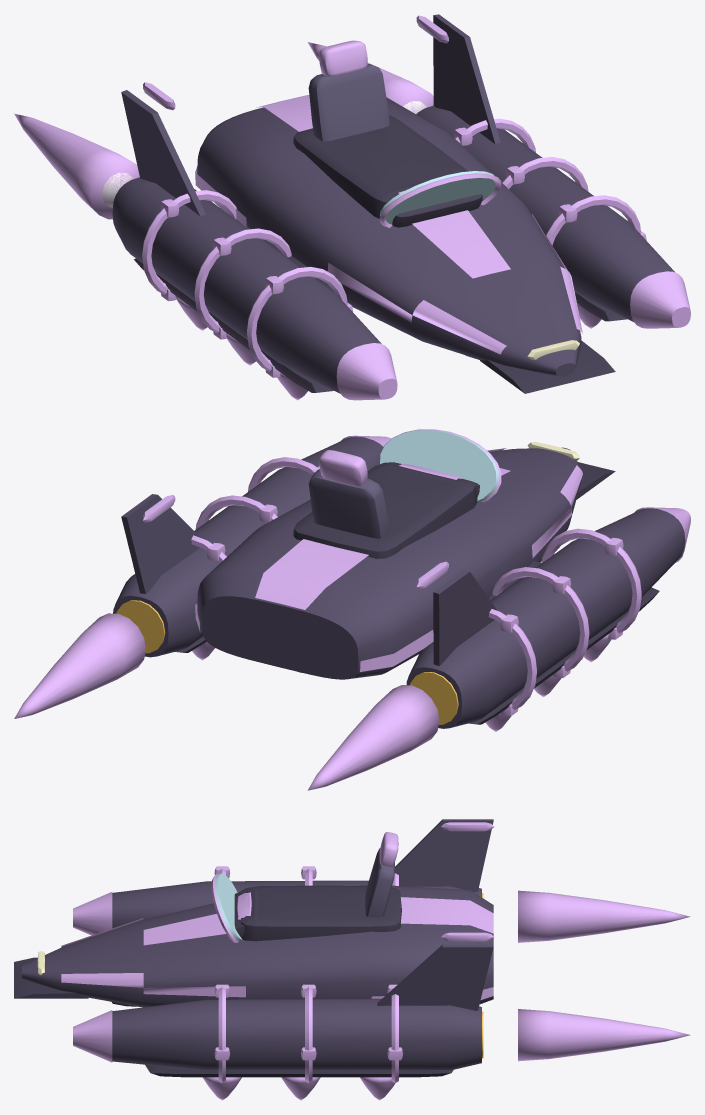
The model's file is skimmer.glb.
3 views of the same model, one above another, from view 1: azimuth 30°, elevation 25°; view 2: azimuth 150°, elevation 25°; view 3: azimuth 270°, elevation 25° (orthographic). The views are drawn at different scales.
Parts seen in each view (by area): view 1: hull, nacelleL, nacelleR, tub, plumeL_flame, seatBack, finR, spine, finL, chine, nacelleCapR, nacelleCapL (+13 smaller); view 2: hull, nacelleL, nacelleR, tub, plumeR_flame, plumeL_flame, spine, screen, finR, seatBack, finL, chine (+10 smaller); view 3: hull, nacelleR, tub, plumeL_flame, plumeR_flame, finR, finL, spine, nacelleL, emitterFrameR, chine, nacelleCapR (+13 smaller).
Part boxes in pixels (left/top/right/bottom): hull: left=197, top=97, right=581, bottom=376; nacelleL: left=112, top=177, right=381, bottom=393; nacelleR: left=416, top=105, right=675, bottom=321; tub: left=293, top=115, right=468, bottom=218; plumeL_flame: left=14, top=113, right=139, bottom=219; seatBack: left=308, top=64, right=389, bottom=141; finR: left=433, top=14, right=500, bottom=144; spine: left=256, top=95, right=510, bottom=278; finL: left=121, top=90, right=205, bottom=216; chine: left=195, top=167, right=582, bottom=354; nacelleCapR: left=630, top=271, right=690, bottom=328; nacelleCapL: left=336, top=343, right=397, bottom=400; hull: left=197, top=447, right=581, bottom=679; nacelleL: left=406, top=508, right=685, bottom=728; nacelleR: left=113, top=437, right=383, bottom=657; tub: left=293, top=462, right=477, bottom=558; plumeR_flame: left=14, top=613, right=145, bottom=718; plumeL_flame: left=307, top=685, right=439, bottom=790; spine: left=255, top=468, right=510, bottom=609; screen: left=380, top=430, right=498, bottom=501; finR: left=121, top=494, right=200, bottom=593; seatBack: left=308, top=469, right=389, bottom=538; finL: left=433, top=569, right=496, bottom=666; chine: left=195, top=448, right=582, bottom=671; hull: left=22, top=885, right=493, bottom=1007; nacelleR: left=112, top=998, right=481, bottom=1070; tub: left=241, top=885, right=401, bottom=941; plumeL_flame: left=518, top=890, right=690, bottom=942; plumeR_flame: left=518, top=1009, right=690, bottom=1061; finR: left=377, top=944, right=493, bottom=1010; finL: left=395, top=819, right=493, bottom=891; spine: left=143, top=897, right=493, bottom=945; nacelleL: left=112, top=880, right=481, bottom=928; emitterFrameR: left=145, top=1064, right=453, bottom=1077; chine: left=61, top=918, right=493, bottom=999; nacelleCapR: left=73, top=1010, right=112, bottom=1062.
Bounding box in the file's own units: 4.8 × 2.86 × 8.61.
